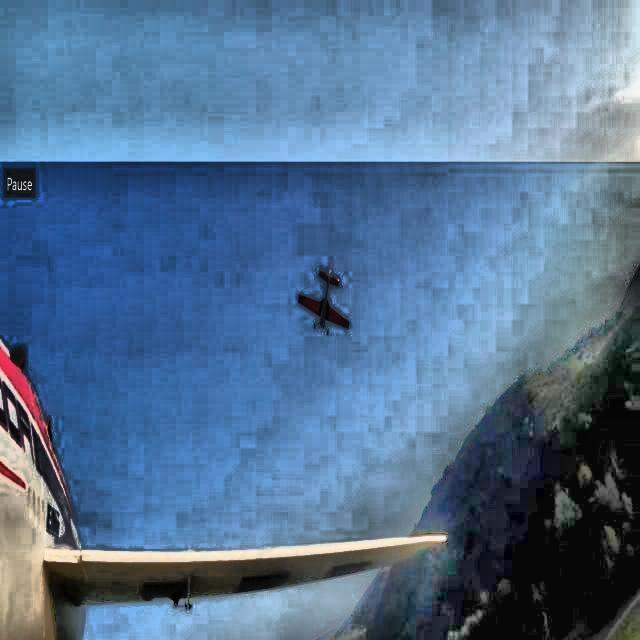iha: (2, 298, 490, 640), (300, 289, 352, 328)
